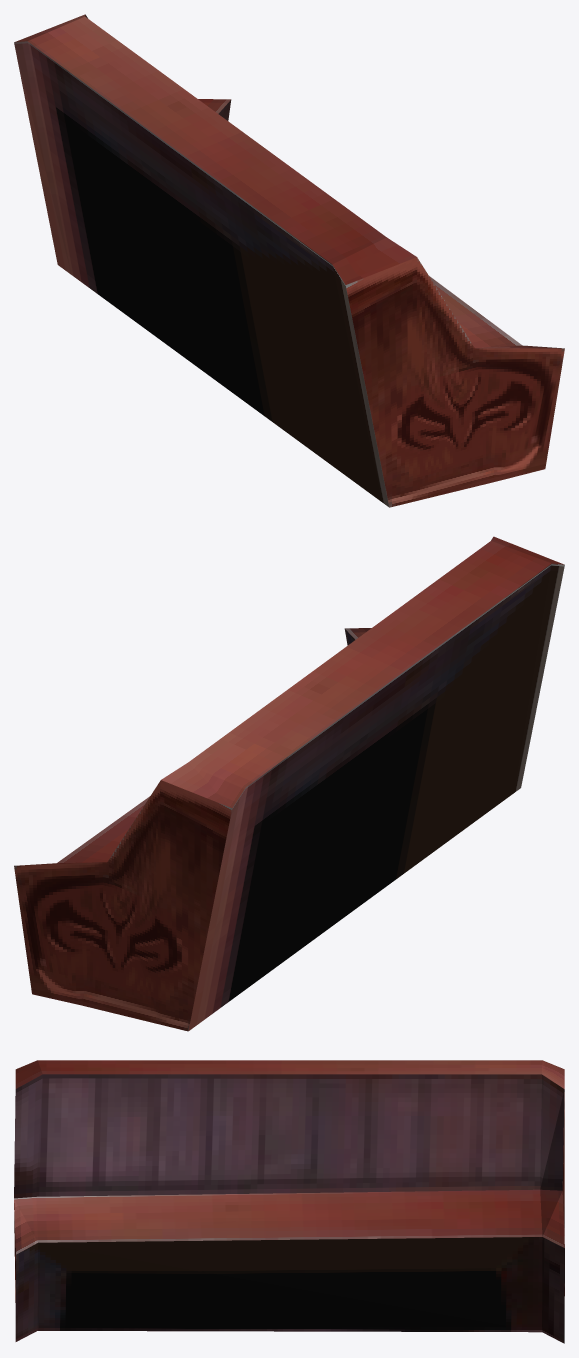
File: CharlieChurchSeat.obj
3 renders of one model, top to bottom at view 1: azimuth 30°, elevation 25°; view 2: azimuth 150°, elevation 25°; view 3: azimuth 270°, elevation 25°, orthographic. The views are drawn at different scales.
Visible parts, largest first — view 1: Cube; view 2: Cube; view 3: Cube.
Part boxes in pixels (x1=…): Cube: x1=14, y1=14, x2=564, y2=507; Cube: x1=14, y1=536, x2=564, y2=1031; Cube: x1=14, y1=1060, x2=564, y2=1343.
Size of the model in its own units: 1.53 by 1.7 by 4.01.
Materials: 1 (1 with a texture image).
